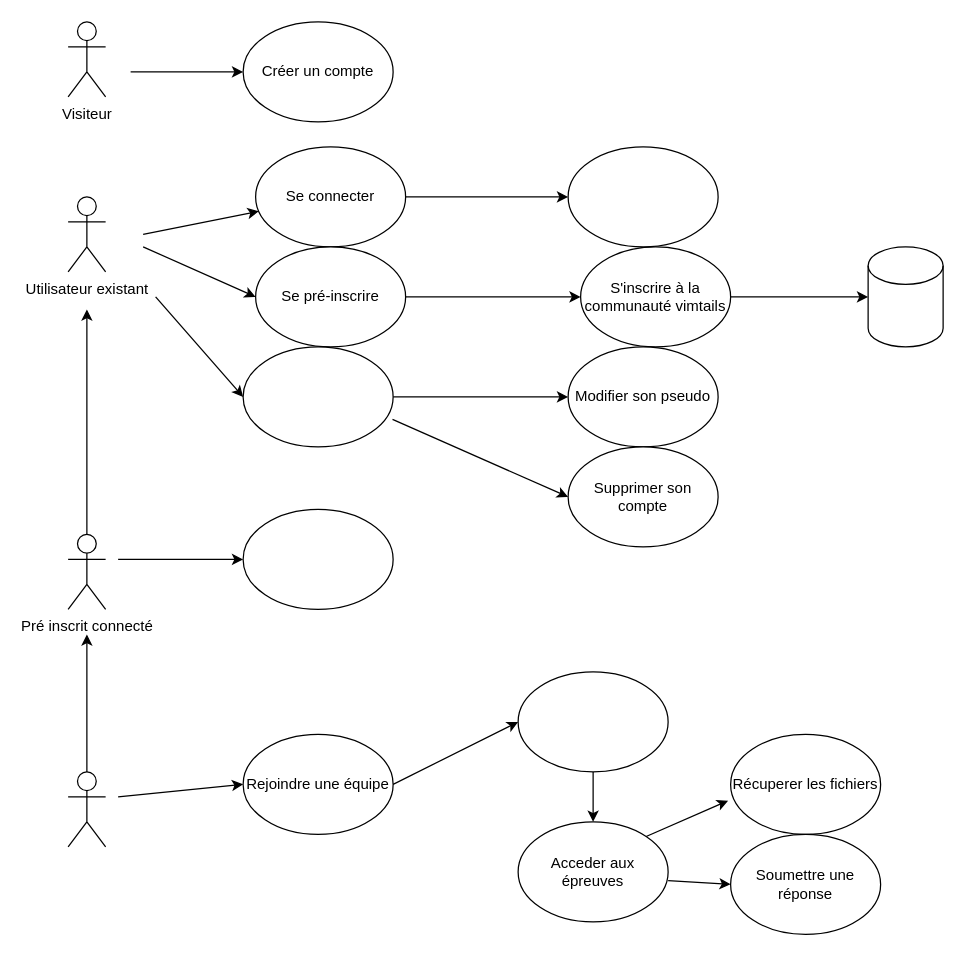
The diagram is 965 pixels wide and 956 high, and some of its shapes have lost their labels. Each missing label, with the box of its shape:
Consulter le tableau d'équipe: (517, 671, 668, 772)
Consulter son profil: (242, 346, 393, 447)
Inscrit: (67, 771, 106, 847)
Se déconnecter: (567, 146, 718, 247)
Se désinscrire: (242, 508, 393, 609)
Vimtails: (867, 246, 943, 347)
